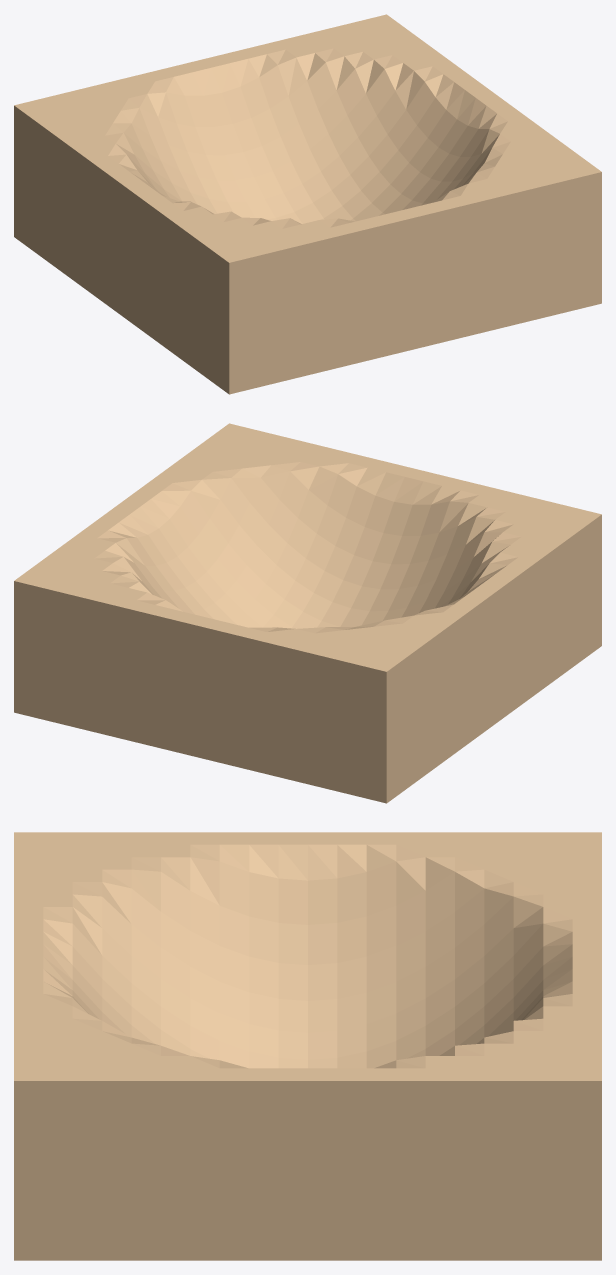
Rendered from desert-canyons-and-oases-plunge-pool-basin-1dfdbdd7__20955.glb.
The picture shows the model from 3 angles, top to bottom: view 1: azimuth 30°, elevation 25°; view 2: azimuth 150°, elevation 25°; view 3: azimuth 270°, elevation 25°; orthographic projection. The views are drawn at different scales.
Visible parts, largest first — view 1: plunge-pool-basin; view 2: plunge-pool-basin; view 3: plunge-pool-basin.
Part boxes in pixels (x1,y1,x2,y2): plunge-pool-basin: [14, 14, 601, 394]; plunge-pool-basin: [14, 423, 601, 803]; plunge-pool-basin: [14, 832, 601, 1260].
Size of the model in its own units: 4 by 1.35 by 4.
